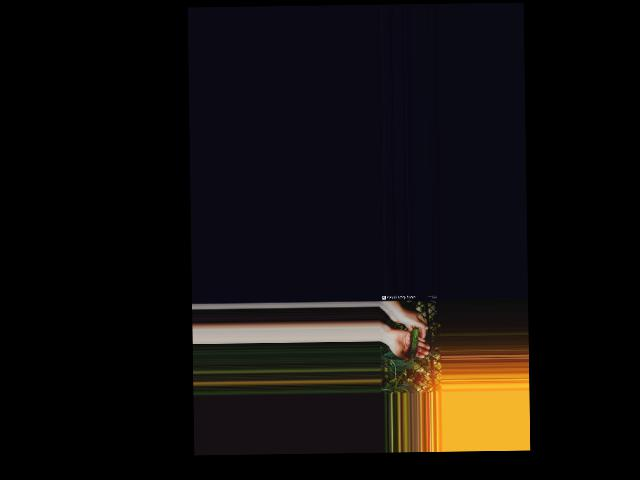cucumber: (407, 328, 419, 358)
